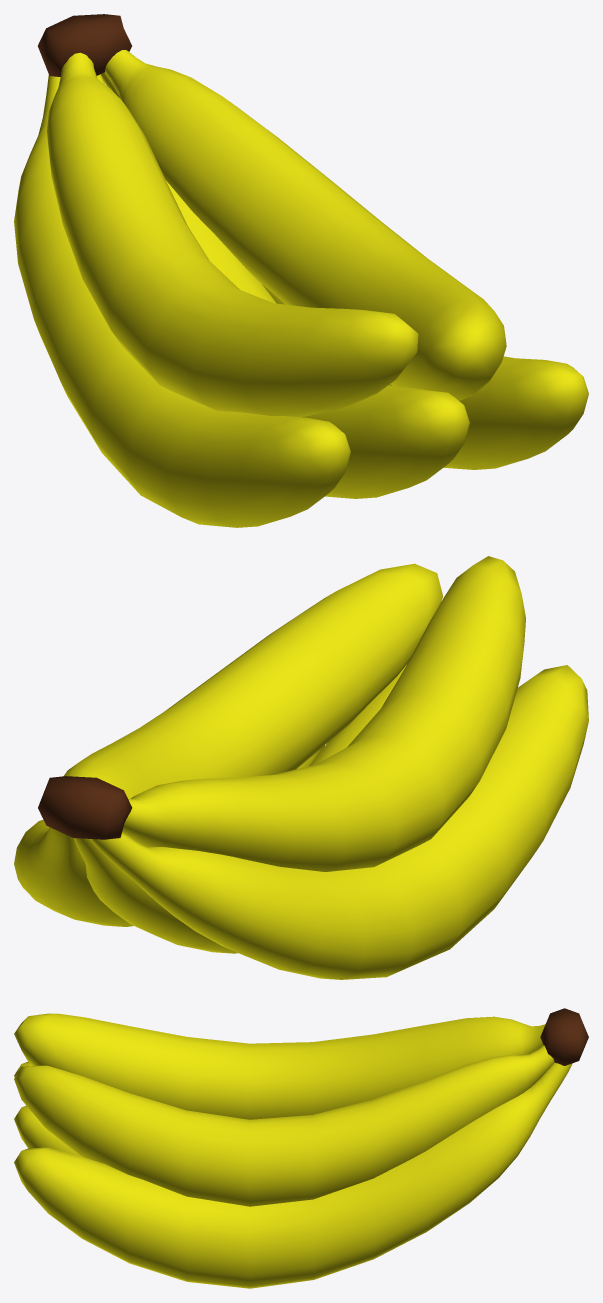
File: BananaSimple.glb
3 renders of one model, top to bottom at view 1: azimuth 30°, elevation 25°; view 2: azimuth 150°, elevation 25°; view 3: azimuth 270°, elevation 25°, orthographic. The views are drawn at different scales.
Visible parts, largest first — view 1: BananaBunch; view 2: BananaBunch; view 3: BananaBunch.
Boxes of the visible parts, x1,y1,x2,y2 form: BananaBunch: [14, 14, 588, 527]; BananaBunch: [14, 556, 588, 979]; BananaBunch: [14, 1008, 588, 1288].
Bounding box in the file's own units: 0.1146 × 0.0952 × 0.2241.
